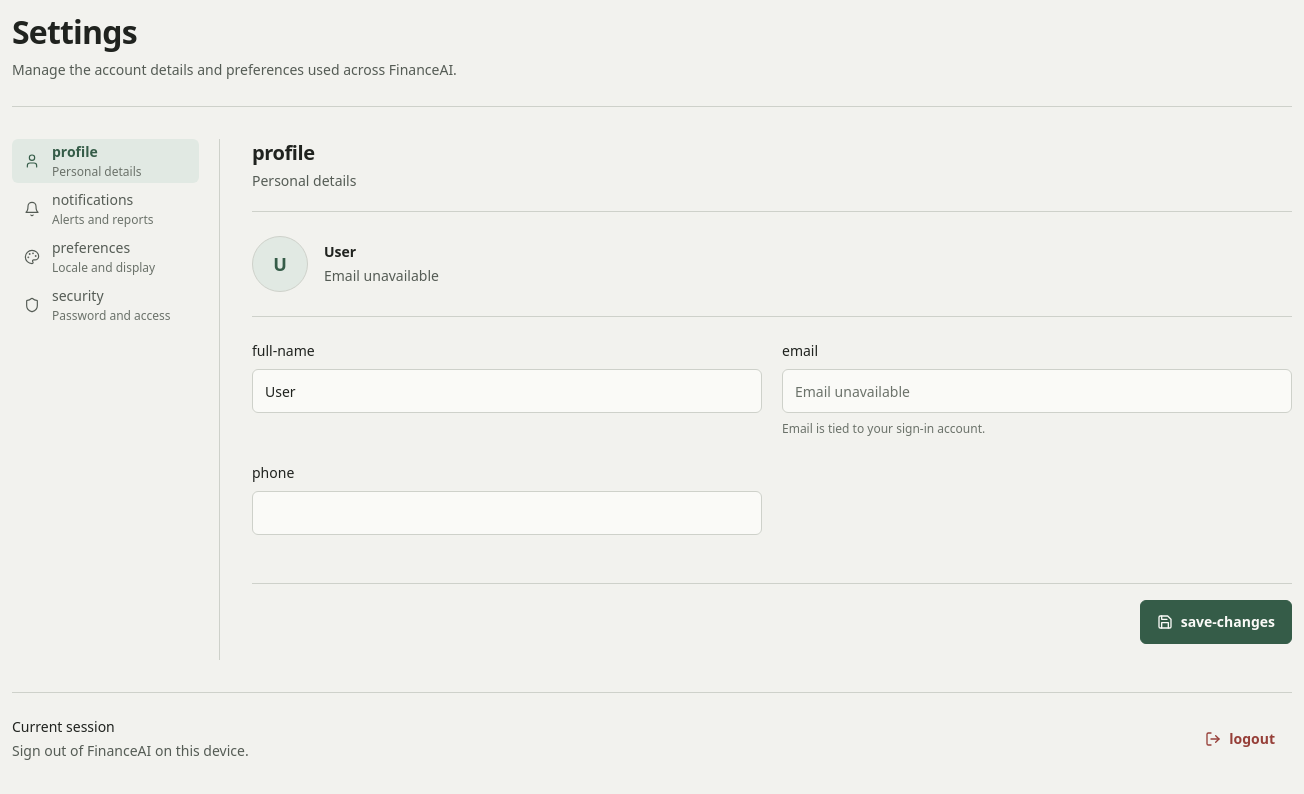
Test: Settings sections › keeps notification changes behind the existing section save action
The image size is (1304, 794).
What coordinates should you click on to do the following:
click the button "notifications Alerts and reports"
I would click on:
 (106, 209)
Its box is [12,187,199,231].
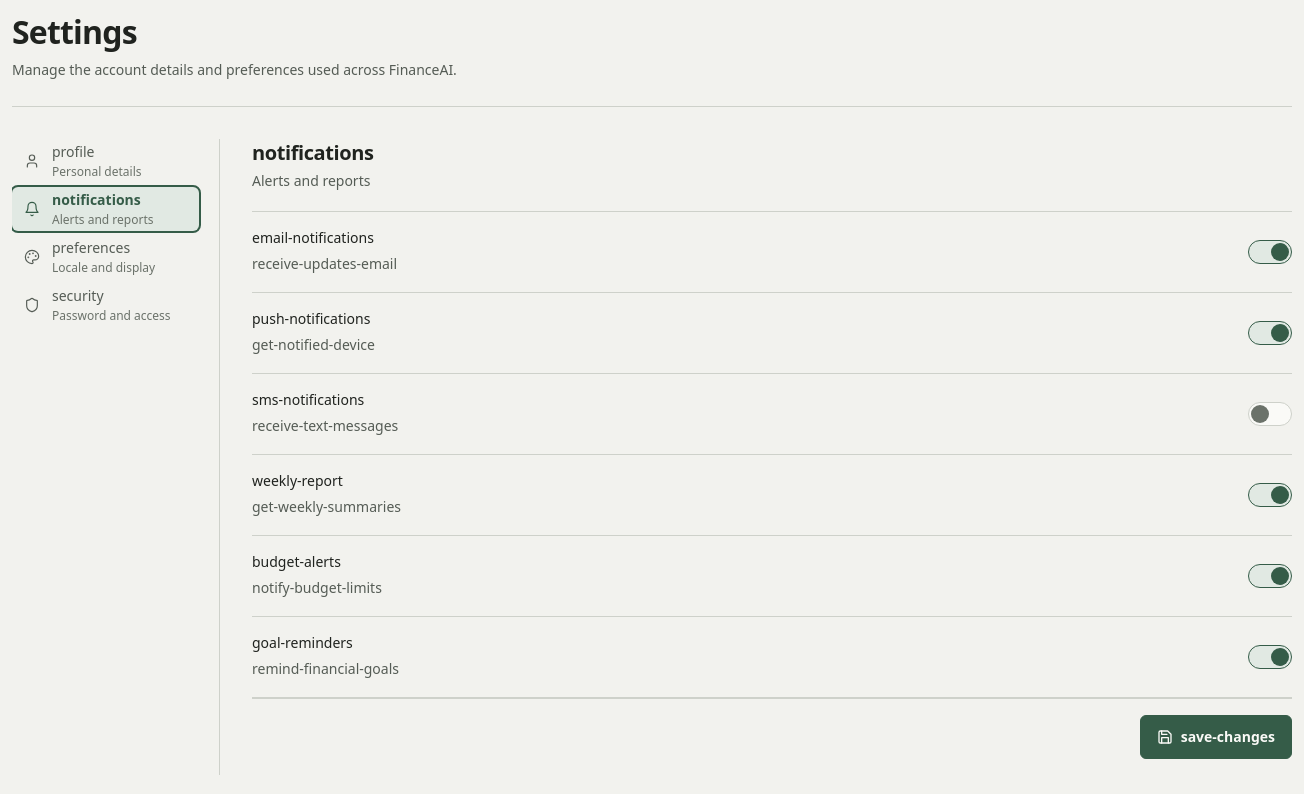
What coordinates should you click on to do the following:
click the checkbox named "email-notifications"
I would click on:
 (1270, 252)
Its box is [1248,240,1292,264].
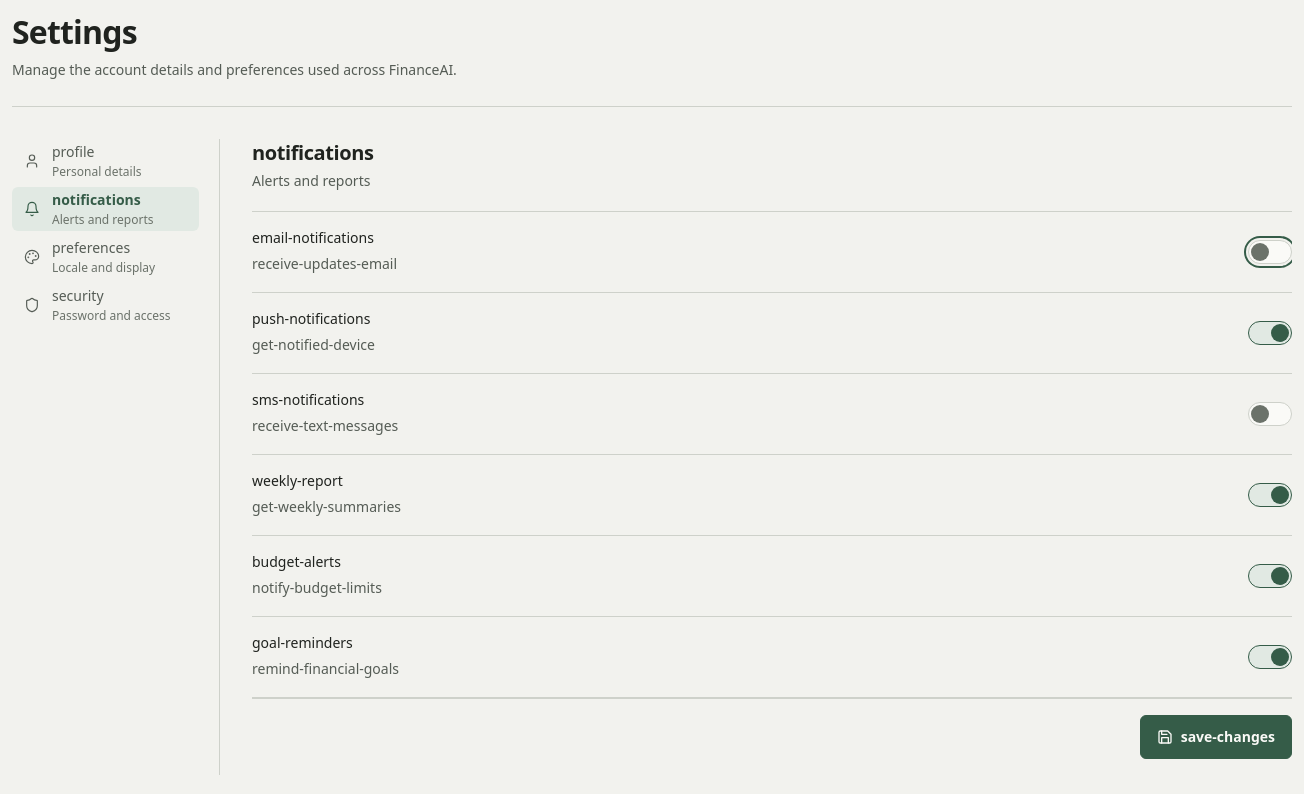
What coordinates should you click on to do the following:
click the button "save-changes"
I would click on:
 (1216, 737)
Its box is [1140,715,1292,759].
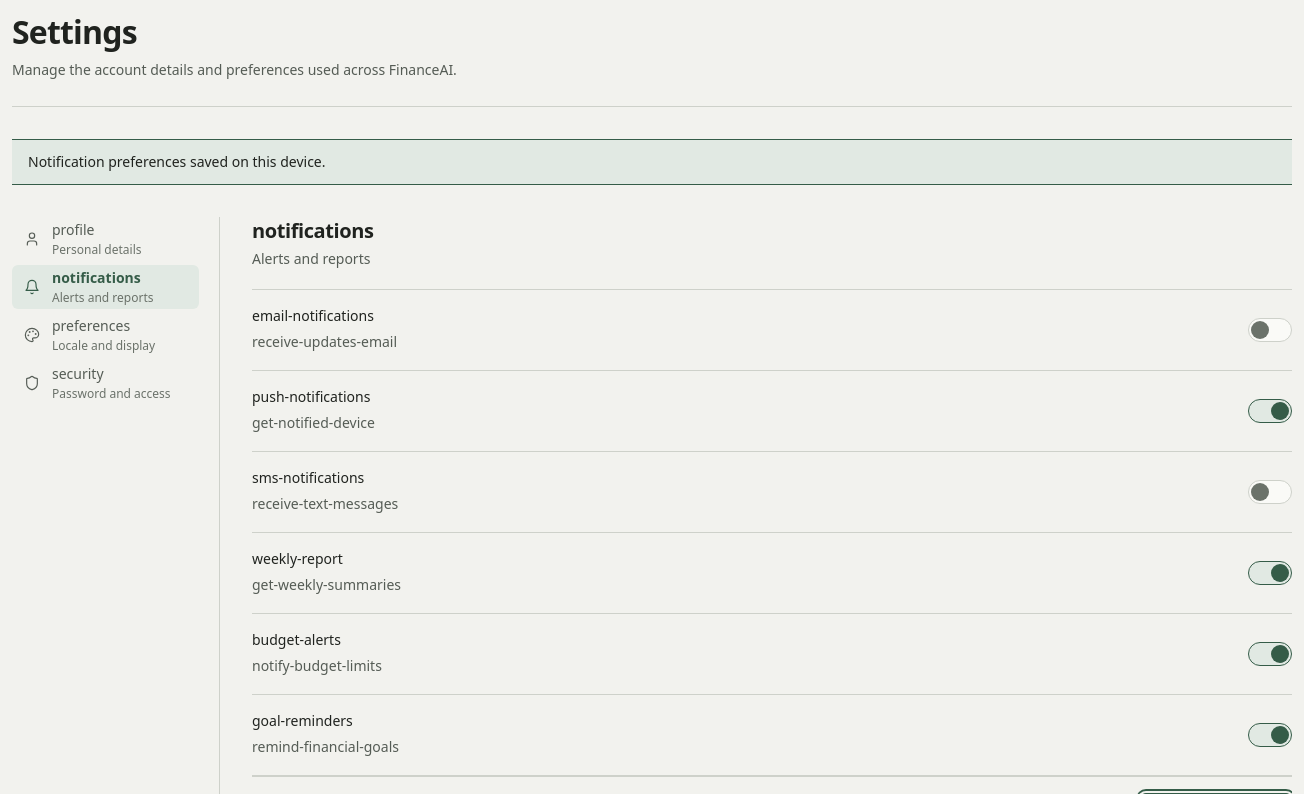
Expected: the text "Notification preferences saved on this device." is shown, [12,139,1292,185]
